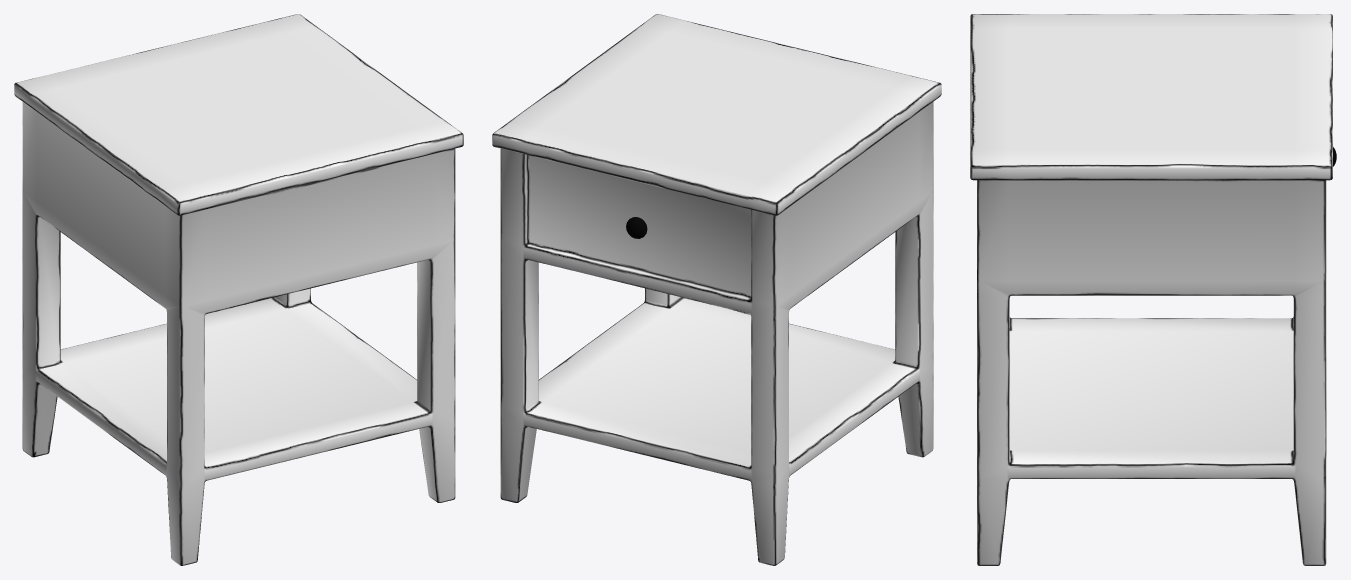
The model's file is SideTable.fbx.
The picture shows the model from 3 angles, left to right: view 1: azimuth 30°, elevation 25°; view 2: azimuth 150°, elevation 25°; view 3: azimuth 270°, elevation 25°; orthographic projection. The views are drawn at different scales.
Parts seen in each view (by area): view 1: SideTable; view 2: SideTable; view 3: SideTable.
Part boxes in pixels (x1,y1,x2,y2): SideTable: [14, 14, 463, 565]; SideTable: [492, 14, 941, 565]; SideTable: [970, 14, 1336, 565].
Size of the model in its own units: 0.5209 by 0.6393 by 0.5262.
